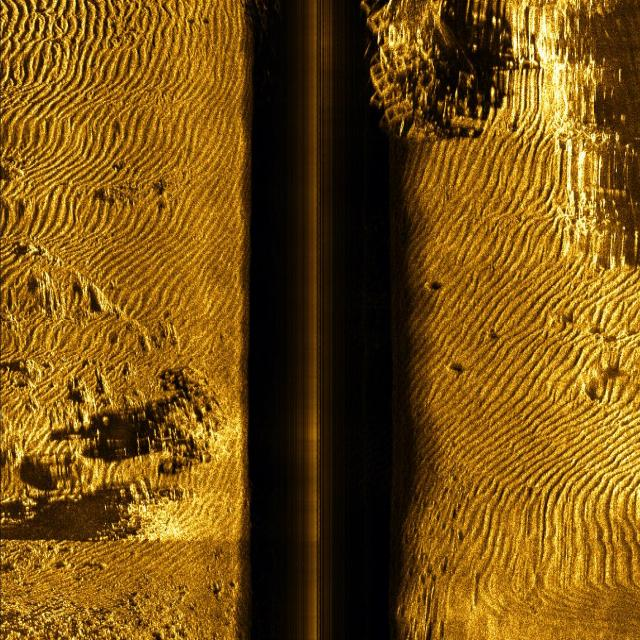artificial reef: (363, 0, 500, 148)
